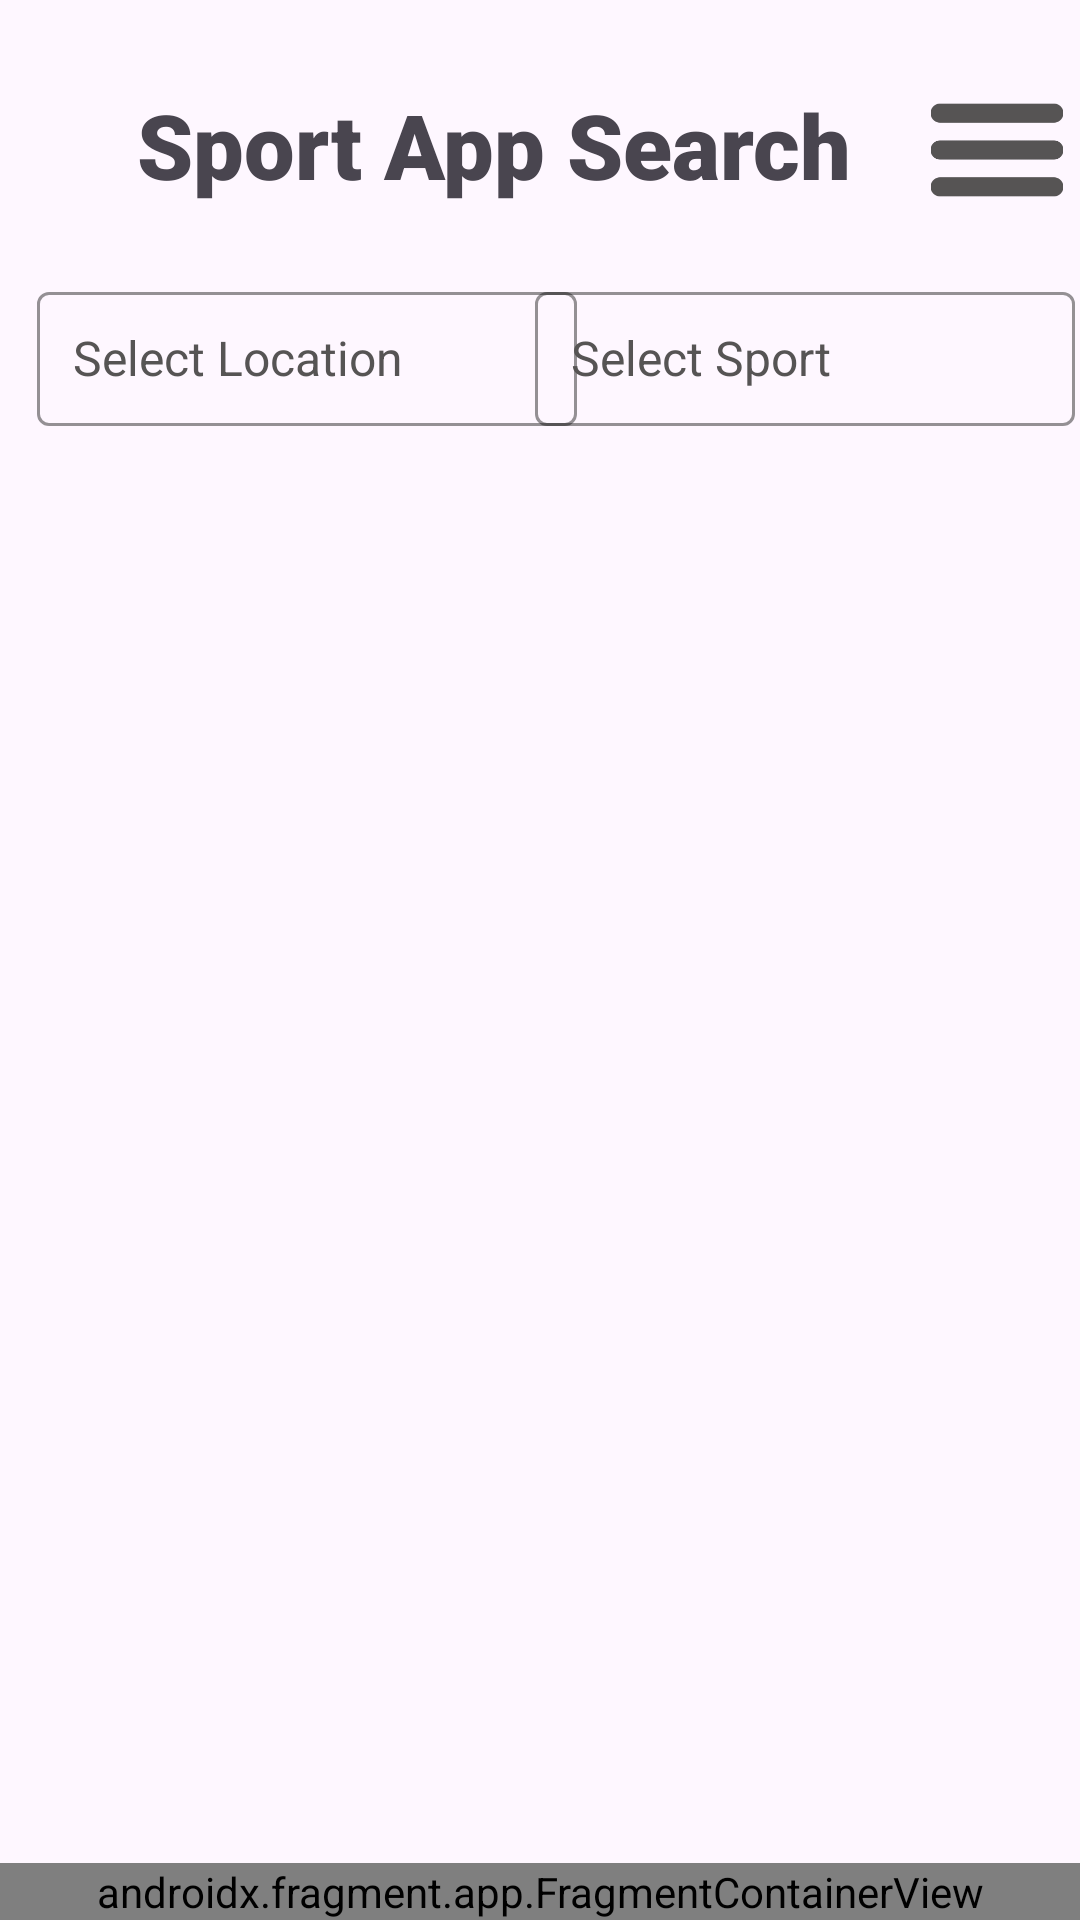

Icons on this 1080*1920 Android screen, each with its box as BBox(x1, y1, x2, y2):
menu: BBox(931, 103, 1063, 197)
